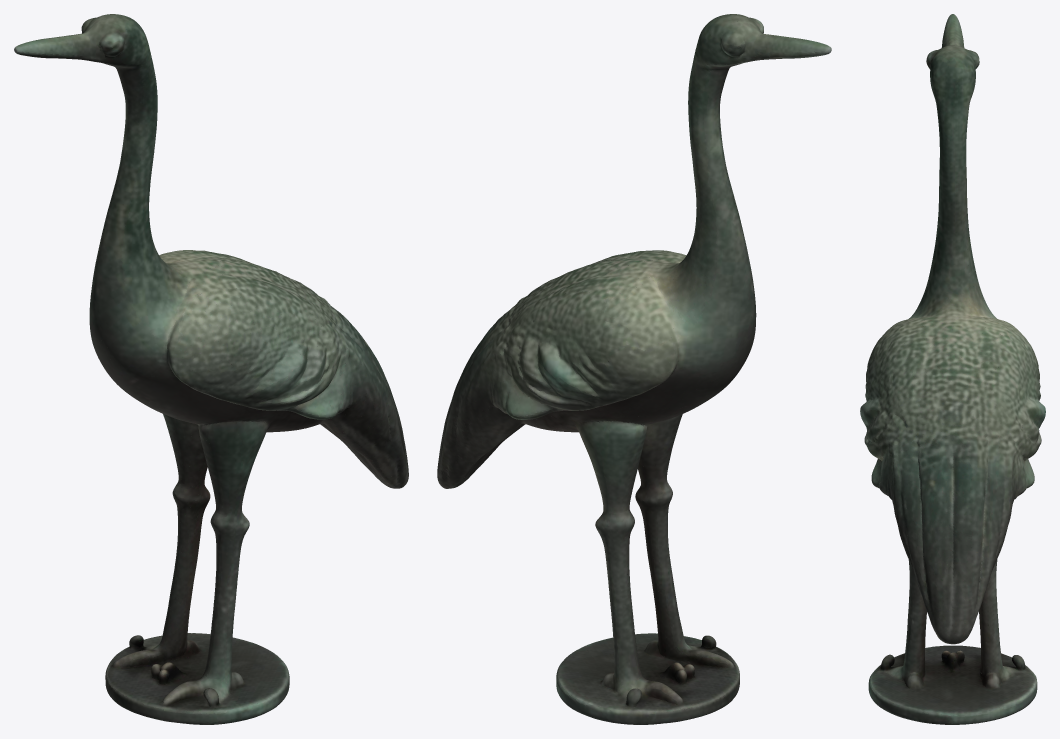
Rendered from tex_mesh.glb.
3 renders of one model, left to right at view 1: azimuth 30°, elevation 25°; view 2: azimuth 150°, elevation 25°; view 3: azimuth 270°, elevation 25°, orthographic. The views are drawn at different scales.
Visible parts, largest first — view 1: world; view 2: world; view 3: world.
Part boxes in pixels (x1,y1,x2,y2): world: [14, 14, 408, 724]; world: [437, 14, 831, 724]; world: [860, 14, 1045, 724].
Bounding box in the file's own units: 0.3838 × 0.65 × 0.1805.
1 material, 1 textured.
